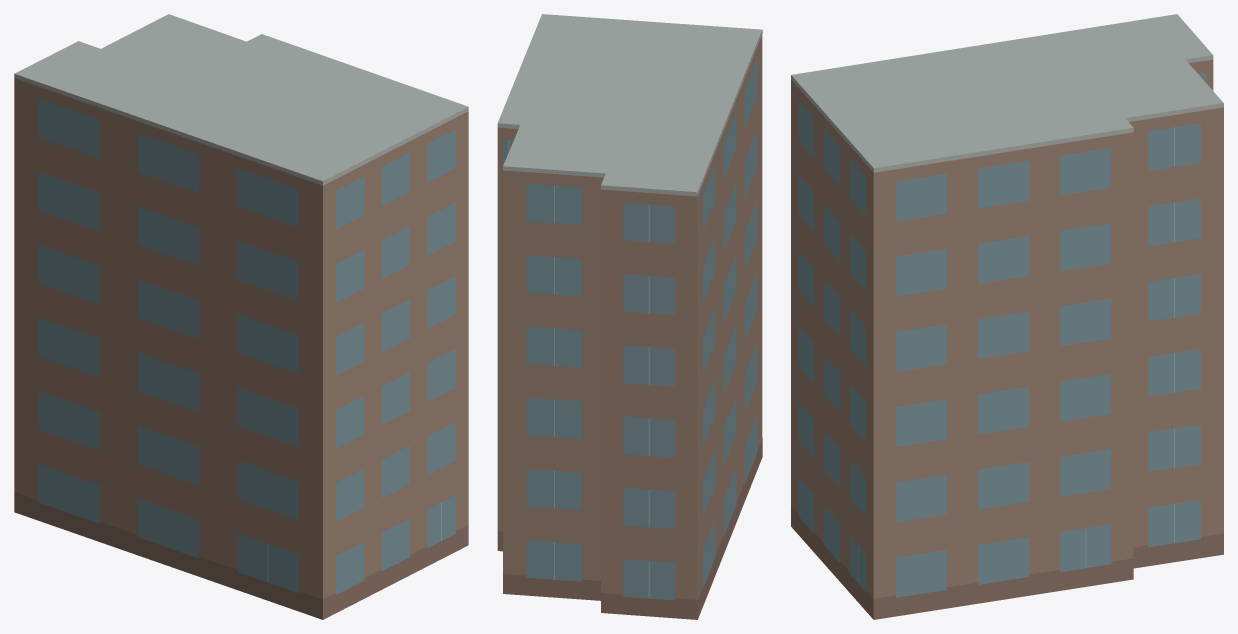
The model's file is survey-upis-32863698.glb.
The picture shows the model from 3 angles, left to right: view 1: azimuth 30°, elevation 25°; view 2: azimuth 150°, elevation 25°; view 3: azimuth 270°, elevation 25°; orthographic projection. The views are drawn at different scales.
Parts seen in each view (by area): view 1: survey-upis-32863698.tmp; view 2: survey-upis-32863698.tmp; view 3: survey-upis-32863698.tmp.
Boxes of the visible parts, x1,y1,x2,y2 form: survey-upis-32863698.tmp: (14,14,468,619); survey-upis-32863698.tmp: (497,14,762,619); survey-upis-32863698.tmp: (791,14,1223,619).
Bounding box in the file's own units: 17.98 × 24.52 × 21.31.
